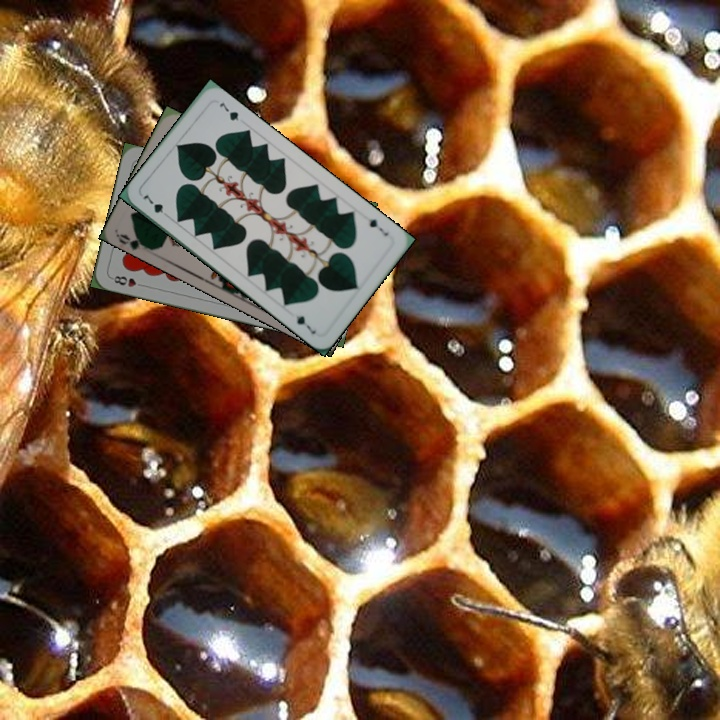G7: (139, 191, 172, 221), (365, 215, 391, 239)
GO: (115, 229, 155, 253)
H8: (107, 271, 147, 290)
